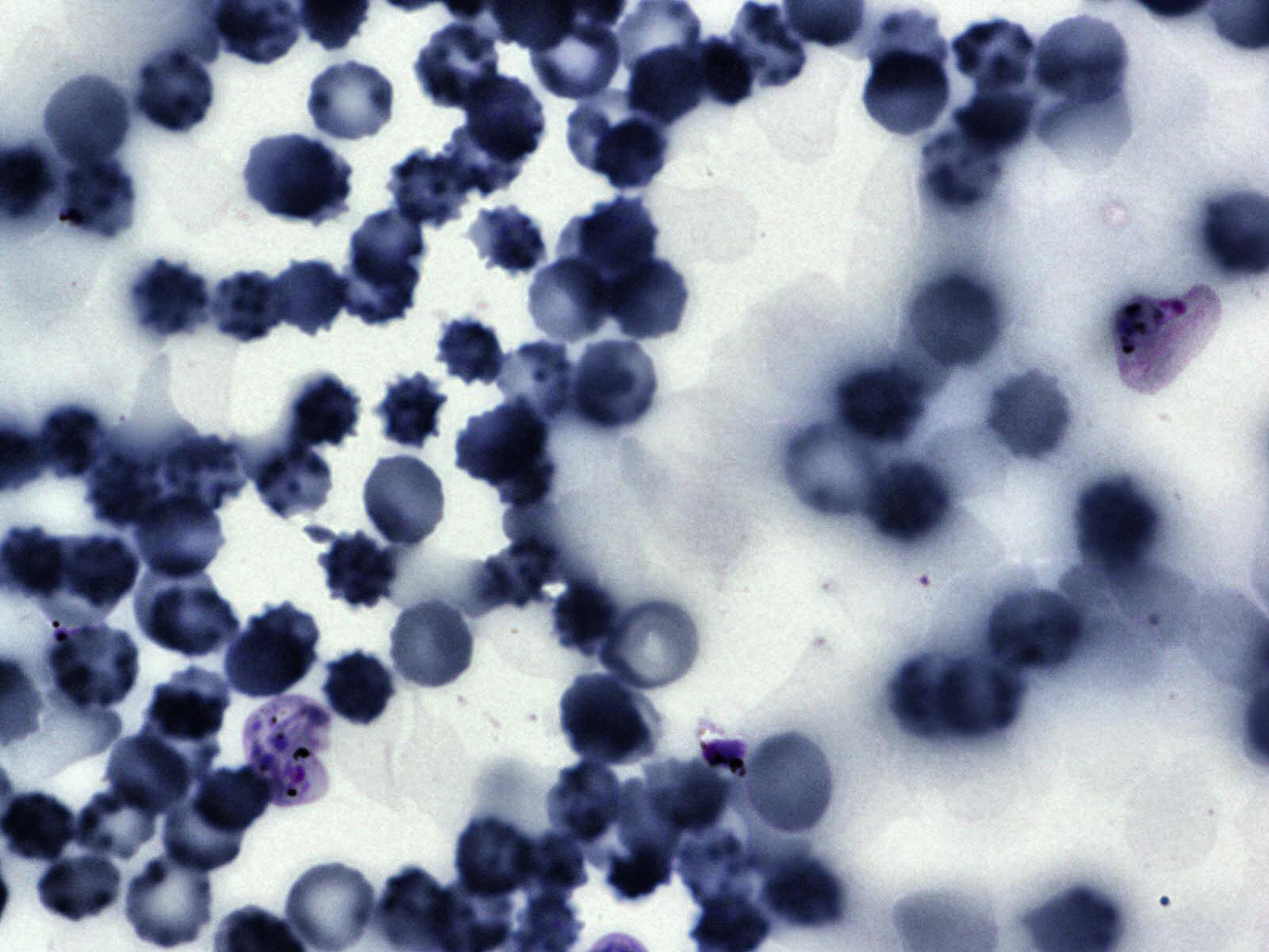Infected: (1108, 285, 1221, 395), (241, 694, 337, 808)
Uninfected: (599, 595, 703, 694), (739, 730, 835, 836), (907, 272, 1004, 374), (40, 71, 134, 171), (561, 672, 659, 767), (358, 451, 451, 551), (129, 489, 228, 582), (128, 852, 223, 948), (787, 423, 884, 516), (301, 56, 401, 146), (569, 336, 661, 433), (1033, 12, 1131, 103), (526, 13, 626, 102), (385, 597, 477, 693), (860, 49, 955, 141), (225, 611, 318, 701), (524, 258, 614, 350), (48, 622, 142, 710), (413, 22, 507, 110), (605, 251, 692, 345), (456, 399, 551, 484), (985, 367, 1069, 463), (891, 653, 983, 740), (129, 46, 218, 135), (462, 71, 549, 161), (146, 578, 240, 660), (59, 151, 141, 244), (987, 590, 1080, 672), (450, 813, 536, 899), (937, 653, 1026, 735), (127, 257, 212, 342), (432, 119, 527, 195), (567, 90, 653, 173), (243, 136, 334, 214), (164, 431, 249, 514), (727, 0, 807, 88), (250, 440, 337, 520), (950, 17, 1038, 95), (136, 703, 220, 784), (268, 143, 350, 225), (643, 757, 731, 833), (496, 338, 578, 419), (338, 246, 421, 326), (388, 149, 471, 229), (1075, 482, 1156, 563), (107, 736, 190, 815), (546, 758, 623, 843), (76, 778, 162, 854), (319, 529, 398, 611), (192, 758, 274, 837), (468, 201, 552, 278), (864, 463, 949, 539), (864, 9, 949, 85), (838, 367, 925, 441), (578, 197, 658, 277), (320, 648, 399, 729), (164, 793, 246, 870), (919, 129, 1003, 204), (206, 269, 286, 346), (679, 830, 753, 913), (145, 667, 232, 737), (348, 206, 427, 283), (623, 46, 703, 122), (30, 854, 119, 922), (478, 536, 562, 608), (433, 313, 509, 390), (516, 830, 590, 909), (763, 854, 842, 927), (267, 259, 343, 334), (85, 455, 161, 529), (64, 531, 137, 608), (37, 404, 109, 480), (290, 371, 361, 448), (380, 370, 447, 448), (597, 120, 669, 190), (551, 582, 622, 651), (694, 34, 755, 106)
